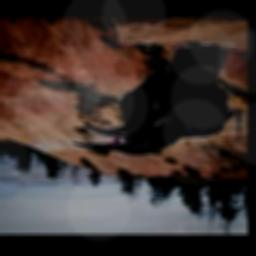Crow: (73, 48, 240, 155)
